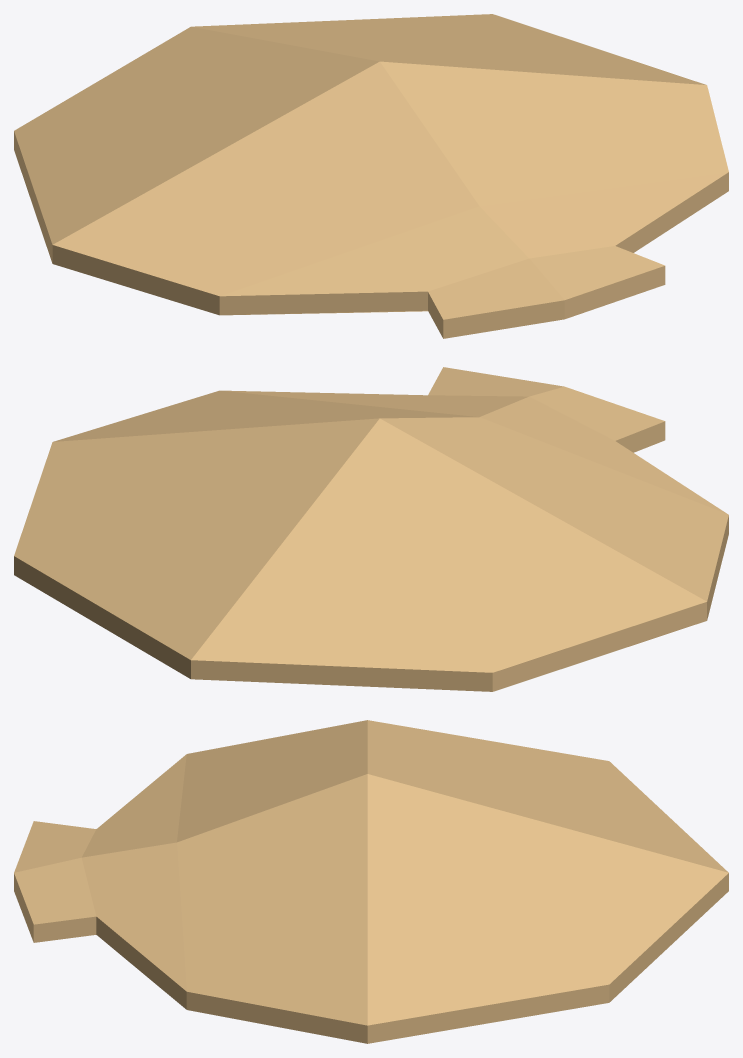
File: scallops.fbx
The picture shows the model from 3 angles, top to bottom: view 1: azimuth 30°, elevation 25°; view 2: azimuth 150°, elevation 25°; view 3: azimuth 270°, elevation 25°; orthographic projection. The views are drawn at different scales.
Visible parts, largest first — view 1: hotate; view 2: hotate; view 3: hotate.
Part boxes in pixels (x1=…): hotate: x1=14, y1=14, x2=728, y2=338; hotate: x1=14, y1=367, x2=728, y2=691; hotate: x1=14, y1=720, x2=728, y2=1043.
Size of the model in its own units: 200 by 54.33 by 198.
